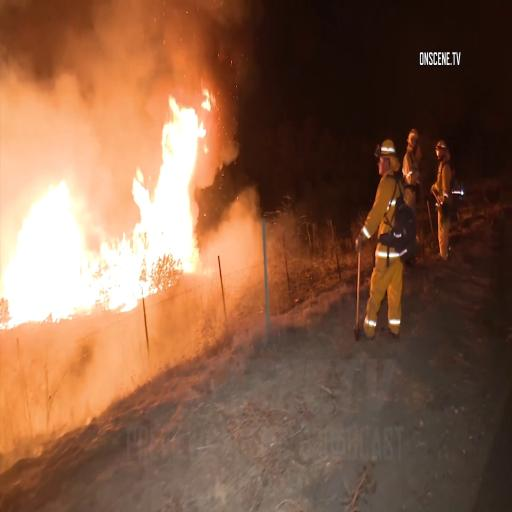fire: (119, 89, 207, 310), (0, 174, 109, 322)
smoke: (3, 0, 148, 164)
